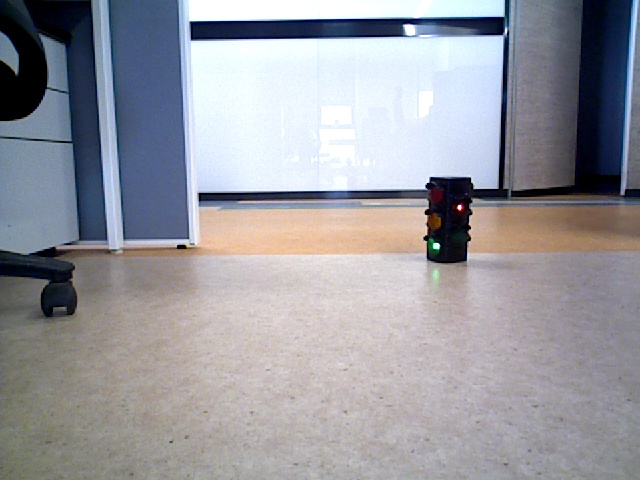green: (429, 182, 465, 258)
